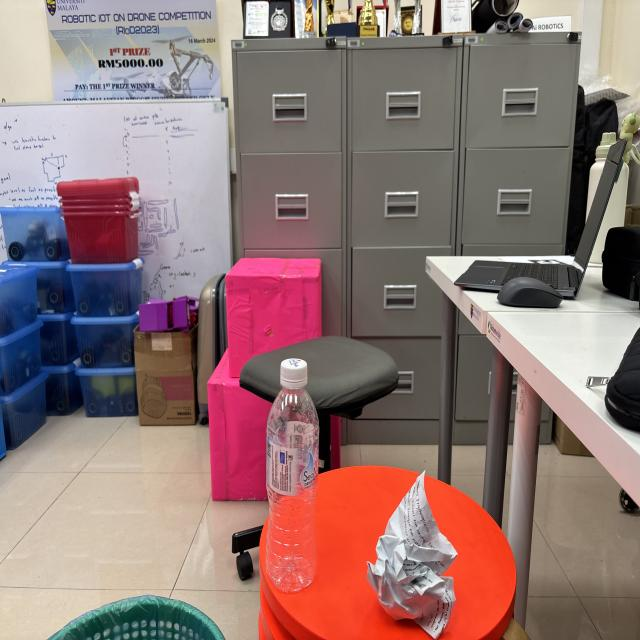crumpled_paper: (362, 465, 465, 640)
plastic_bottle: (260, 345, 325, 599)
